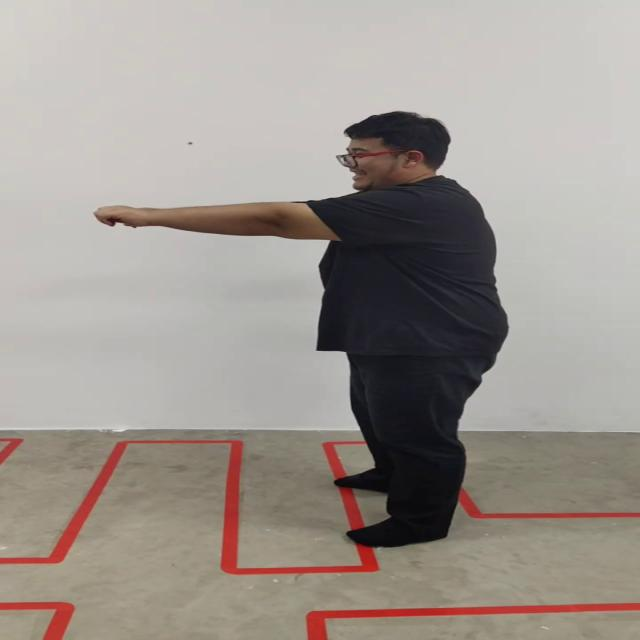stand: (95, 110, 508, 549)
